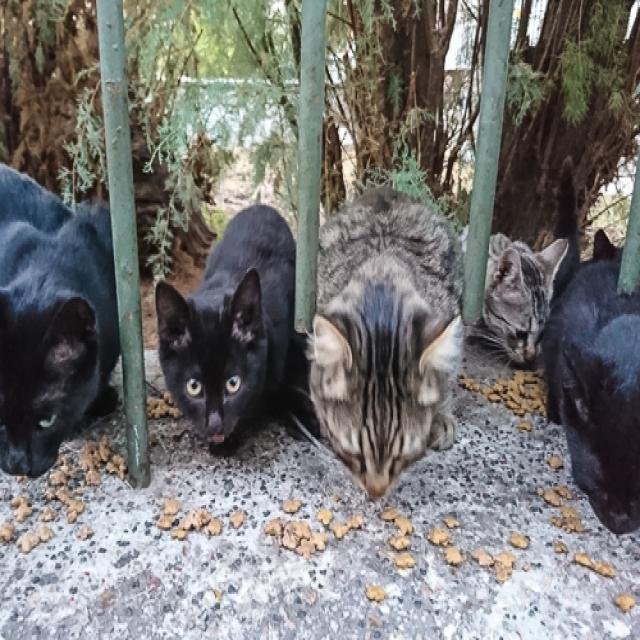cat: (310, 188, 464, 498), (156, 205, 320, 454), (0, 163, 120, 476), (542, 233, 640, 532), (484, 233, 568, 362)
